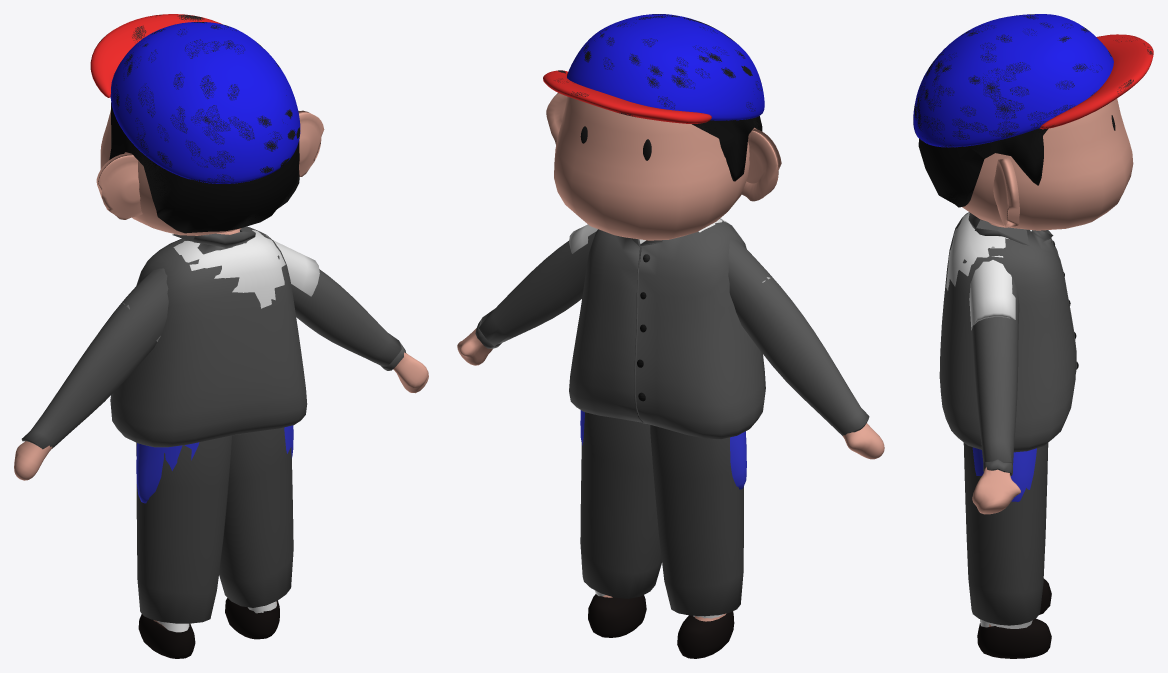
Rendered from hamster.glb.
The picture shows the model from 3 angles, left to right: view 1: azimuth 30°, elevation 25°; view 2: azimuth 150°, elevation 25°; view 3: azimuth 270°, elevation 25°; orthographic projection. The views are drawn at different scales.
Parts seen in each view (by area): view 1: jacket, cap, pants, Hair, shirt, cap2, Ears, shoes, shorts, torso, Head; view 2: jacket, pants, Head, cap, shoes, Ears, Hair, cap2, torso, shorts; view 3: jacket, cap, Head, pants, Hair, shirt, cap2, shoes, torso, Ears, shorts.
Boxes of the visible parts, bbox=[...] form: jacket: bbox=[21, 226, 405, 449]; cap: bbox=[90, 14, 300, 183]; pants: bbox=[136, 427, 293, 623]; Hair: bbox=[109, 102, 299, 233]; shirt: bbox=[123, 230, 319, 341]; cap2: bbox=[99, 14, 300, 183]; Ears: bbox=[96, 110, 324, 219]; shoes: bbox=[138, 598, 279, 658]; shorts: bbox=[136, 425, 293, 503]; torso: bbox=[14, 352, 428, 480]; Head: bbox=[100, 110, 237, 235]; jacket: bbox=[475, 219, 869, 439]; pants: bbox=[580, 412, 743, 616]; Head: bbox=[554, 96, 756, 240]; cap: bbox=[543, 14, 764, 123]; shoes: bbox=[588, 594, 734, 658]; Ears: bbox=[546, 93, 781, 201]; Hair: bbox=[692, 116, 762, 181]; cap2: bbox=[554, 14, 761, 120]; torso: bbox=[457, 328, 884, 459]; shorts: bbox=[580, 410, 746, 489]; jacket: bbox=[939, 212, 1078, 475]; cap: bbox=[913, 14, 1153, 147]; Head: bbox=[962, 98, 1133, 230]; pants: bbox=[963, 442, 1048, 625]; Hair: bbox=[918, 128, 1048, 207]; shirt: bbox=[946, 212, 1031, 330]; cap2: bbox=[913, 14, 1152, 147]; shoes: bbox=[977, 578, 1051, 658]; torso: bbox=[972, 467, 1020, 514]; Ears: bbox=[993, 158, 1019, 227]; shorts: bbox=[972, 447, 1036, 501].
Size of the model in its own units: 3.74 by 5.23 by 1.87.
